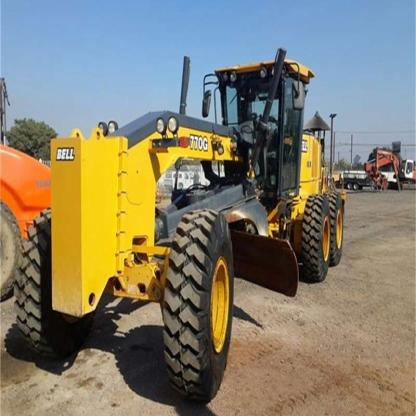bull_dozer/loader/grader: (12, 54, 388, 410)
